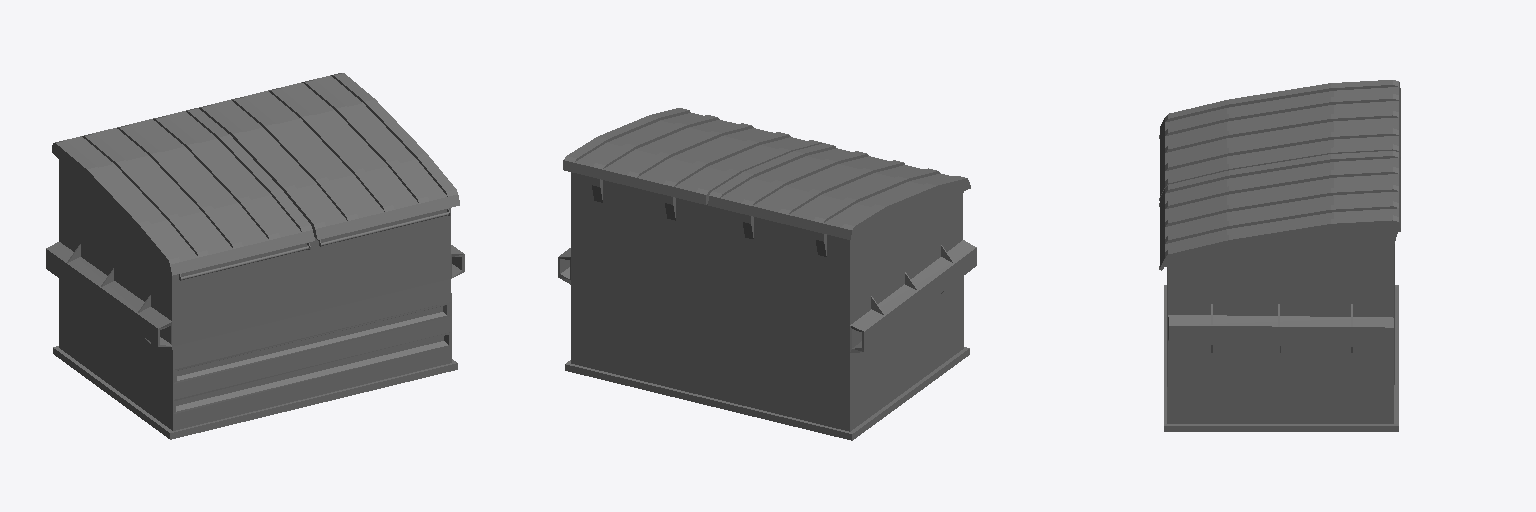
File: Dumpster.obj
3 views of the same model, side by side, from view 1: azimuth 30°, elevation 25°; view 2: azimuth 150°, elevation 25°; view 3: azimuth 270°, elevation 25° (orthographic).
Visible parts, largest first — view 1: Dumpster1; view 2: Dumpster1; view 3: Dumpster1.
Boxes of the visible parts, x1,y1,x2,y2 form: Dumpster1: [46, 73, 464, 439]; Dumpster1: [558, 108, 976, 440]; Dumpster1: [1159, 80, 1400, 431].
Bounding box in the file's own units: 60.65 × 40.17 × 41.5.